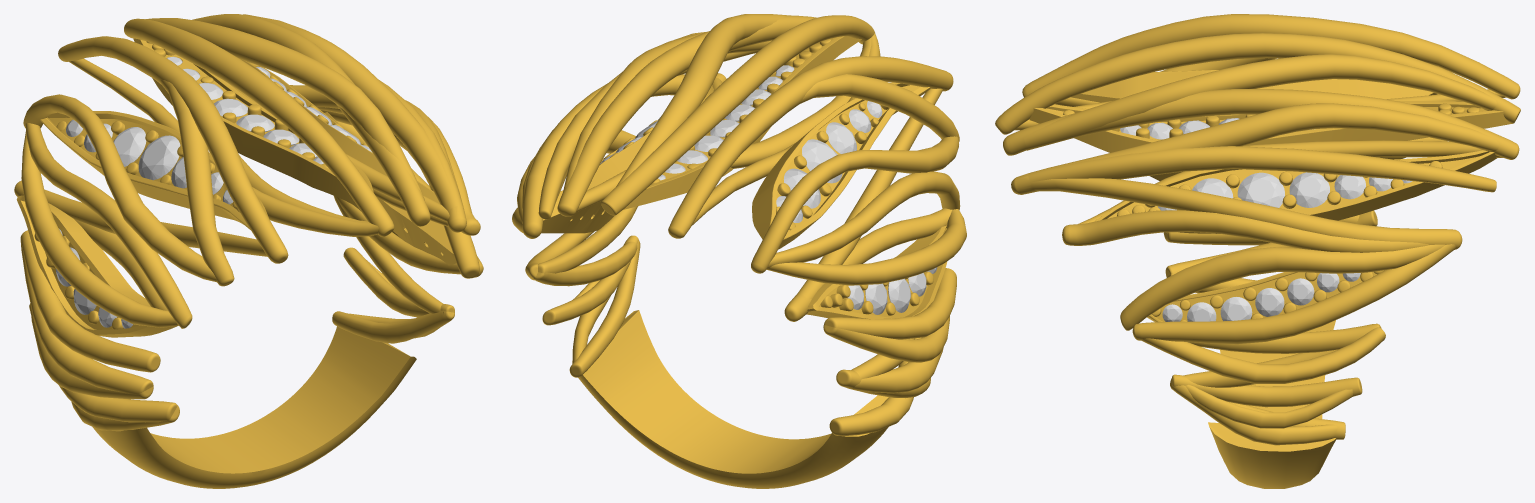
The model's file is Ring_D_Optimazed_StoneCuts_02.fbx.
The picture shows the model from 3 angles, left to right: view 1: azimuth 30°, elevation 25°; view 2: azimuth 150°, elevation 25°; view 3: azimuth 270°, elevation 25°; orthographic projection.
Visible parts, largest first — view 1: Ring_D_01_Object, Ring_D_Diamod_Object; view 2: Ring_D_01_Object, Ring_D_Diamod_Object; view 3: Ring_D_01_Object, Ring_D_Diamod_Object.
Part boxes in pixels (box(x1,y1,x2,y2)): Ring_D_01_Object: box(14, 14, 483, 488); Ring_D_Diamod_Object: box(56, 56, 372, 328); Ring_D_01_Object: box(512, 14, 966, 488); Ring_D_Diamod_Object: box(600, 65, 937, 314); Ring_D_01_Object: box(995, 14, 1520, 488); Ring_D_Diamod_Object: box(1120, 118, 1412, 321).
Size of the model in its own units: 2.15 by 2.26 by 2.52.
